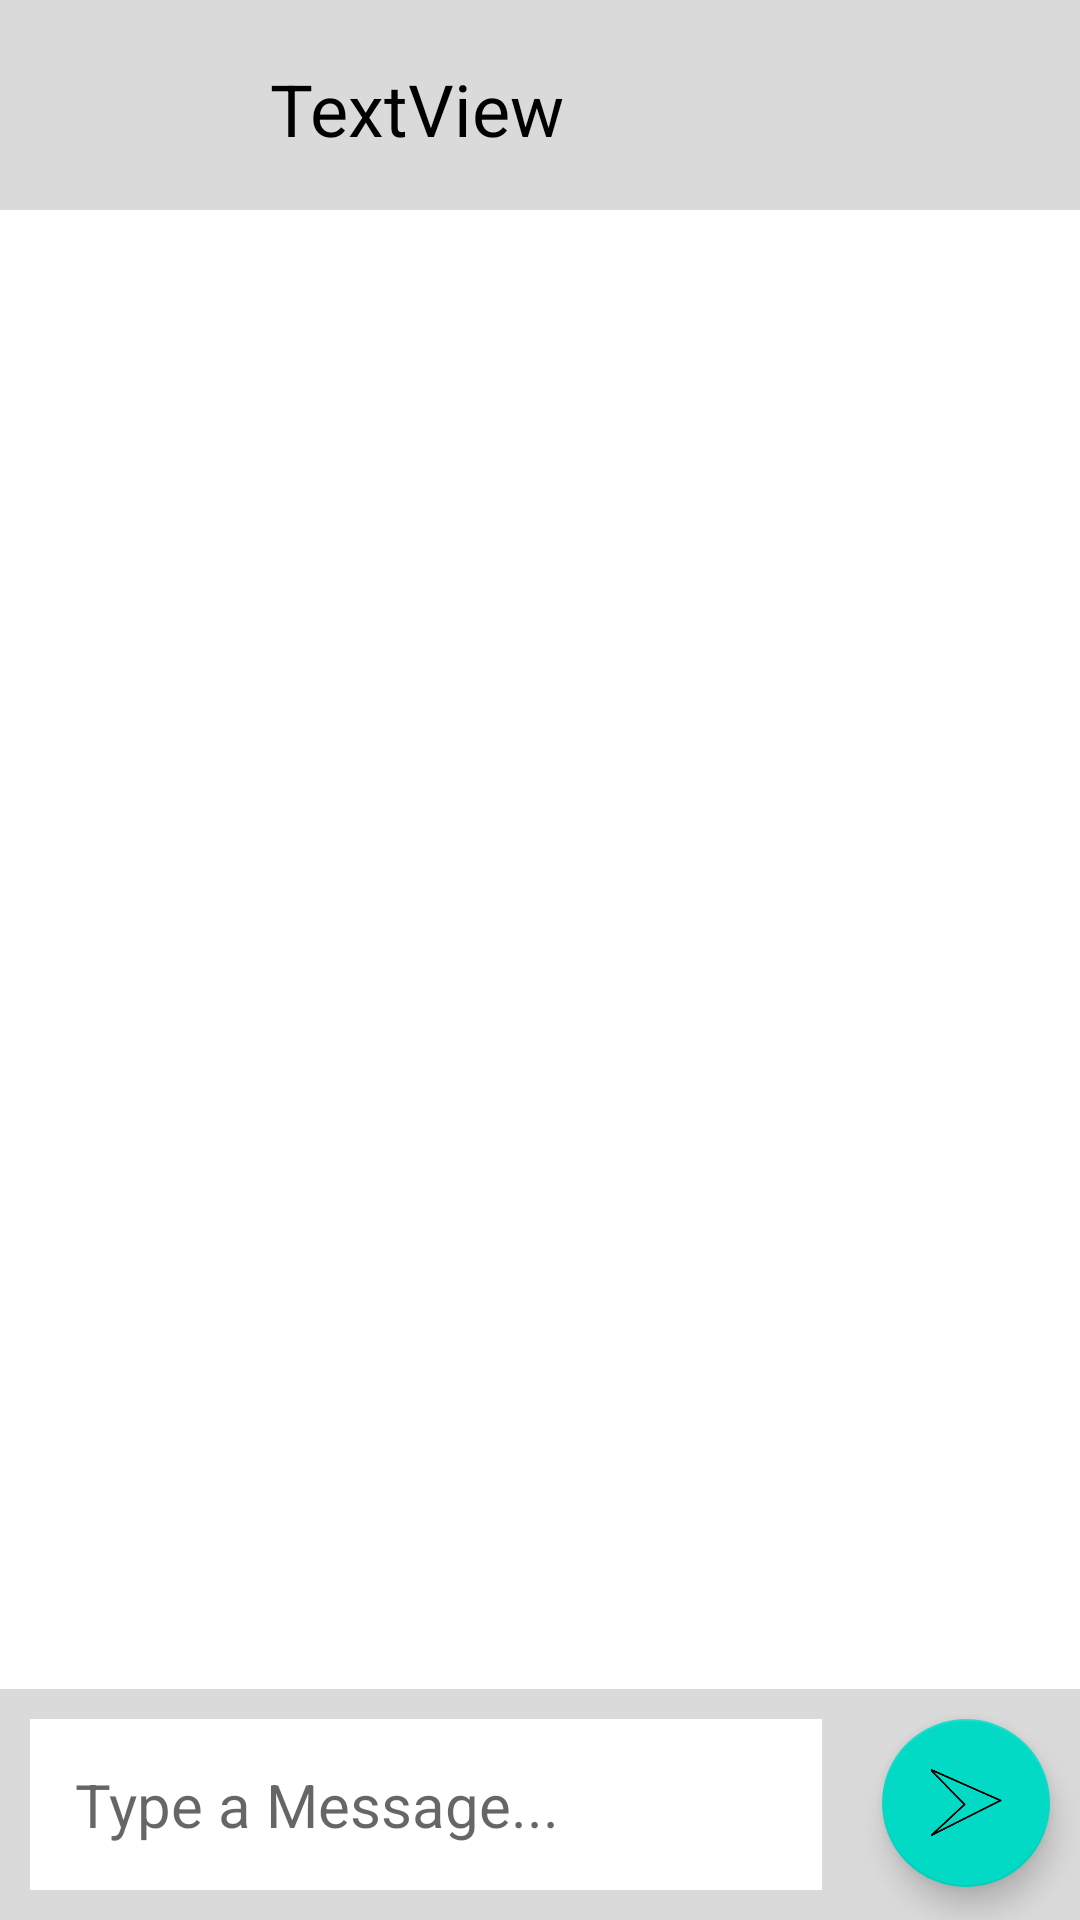

Where icons sit on this 1080px x 1920px app screen, as (x1, y1, x2, y2):
paper plane: (882, 1719, 1050, 1887)
